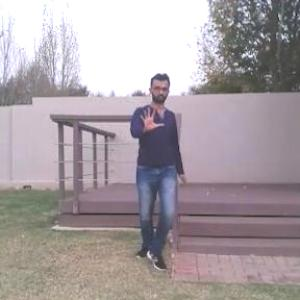follow_hand: (136, 102, 166, 134)
